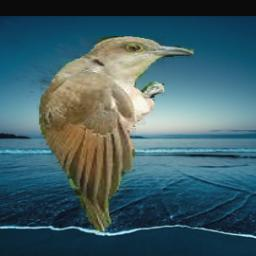Cuckoo: (37, 37, 194, 235)
